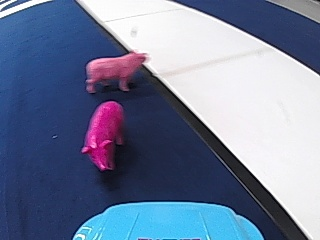pig: (80, 97, 124, 170), (83, 48, 146, 92)
